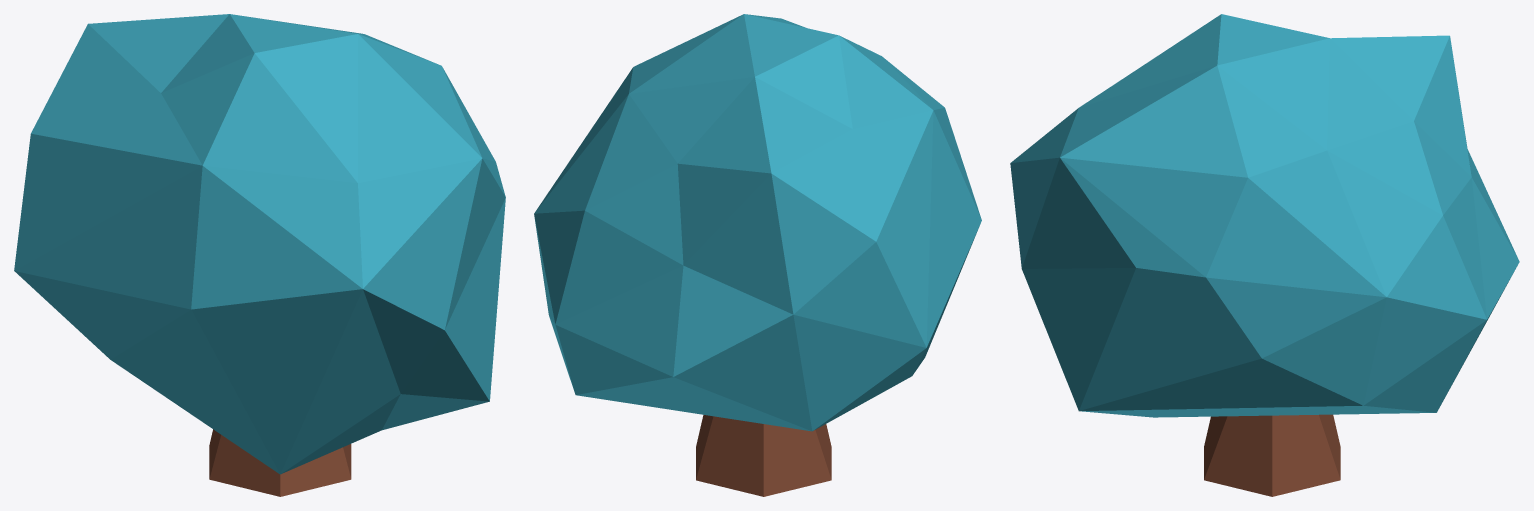
The model's file is Bush_1_summer_blue_mat.fbx.
3 views of the same model, side by side, from view 1: azimuth 30°, elevation 25°; view 2: azimuth 150°, elevation 25°; view 3: azimuth 270°, elevation 25° (orthographic). The views are drawn at different scales.
Visible parts, largest first — view 1: Bush_1_summer_blue_mat; view 2: Bush_1_summer_blue_mat; view 3: Bush_1_summer_blue_mat.
Boxes of the visible parts, x1,y1,x2,y2 form: Bush_1_summer_blue_mat: (14, 14, 505, 496); Bush_1_summer_blue_mat: (534, 14, 981, 496); Bush_1_summer_blue_mat: (1010, 14, 1519, 496).
Bounding box in the file's own units: 40.88 × 42.19 × 45.82.
